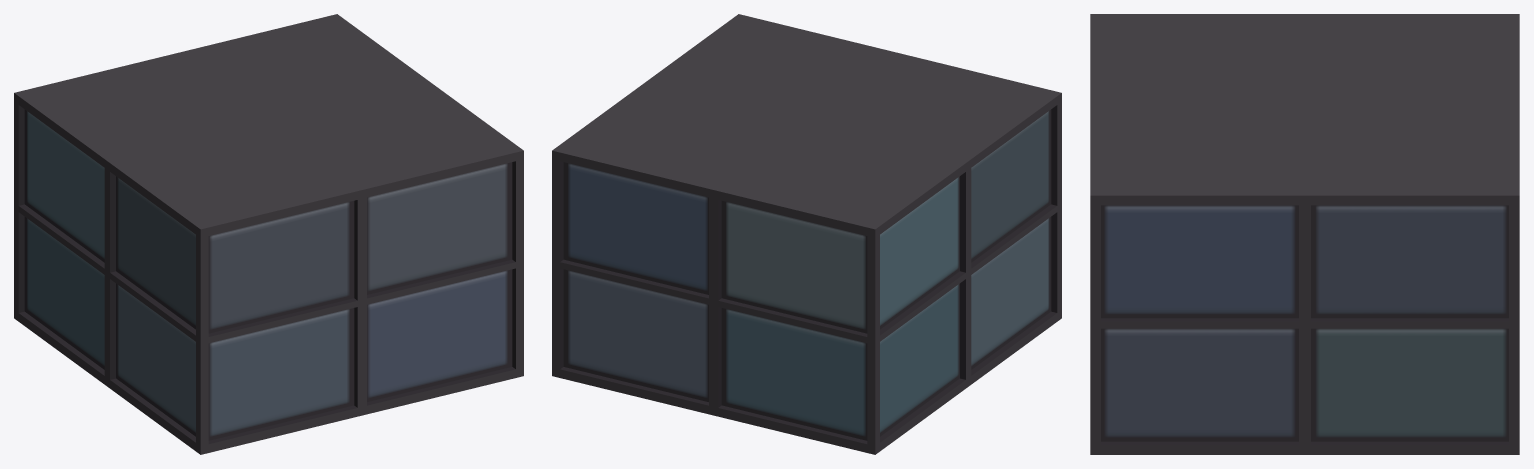
The model's file is Bock_G1.fbx.
3 renders of one model, left to right at view 1: azimuth 30°, elevation 25°; view 2: azimuth 150°, elevation 25°; view 3: azimuth 270°, elevation 25°, orthographic. The views are drawn at different scales.
Visible parts, largest first — view 1: Bock_G1; view 2: Bock_G1; view 3: Bock_G1.
Part boxes in pixels (left/top/right/bottom): Bock_G1: left=14, top=14, right=523, bottom=454; Bock_G1: left=552, top=14, right=1061, bottom=454; Bock_G1: left=1090, top=14, right=1519, bottom=454.
Bounding box in the file's own units: 600 × 400 × 600.
1 material, 1 textured.
